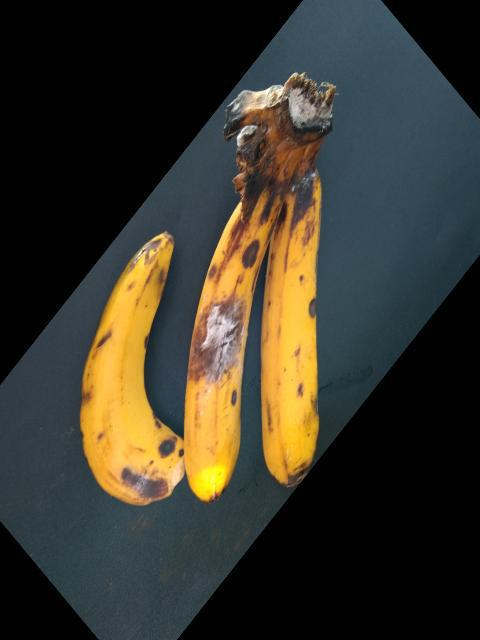ripe: (64, 217, 185, 520), (252, 206, 348, 513)
rotten: (164, 181, 279, 523)
